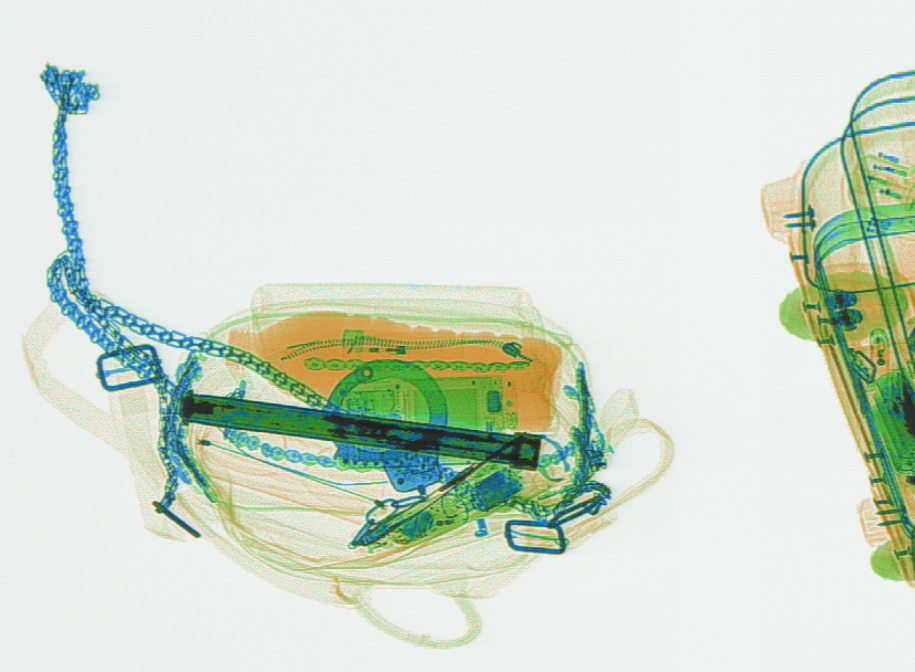lighter: (867, 325, 893, 399)
